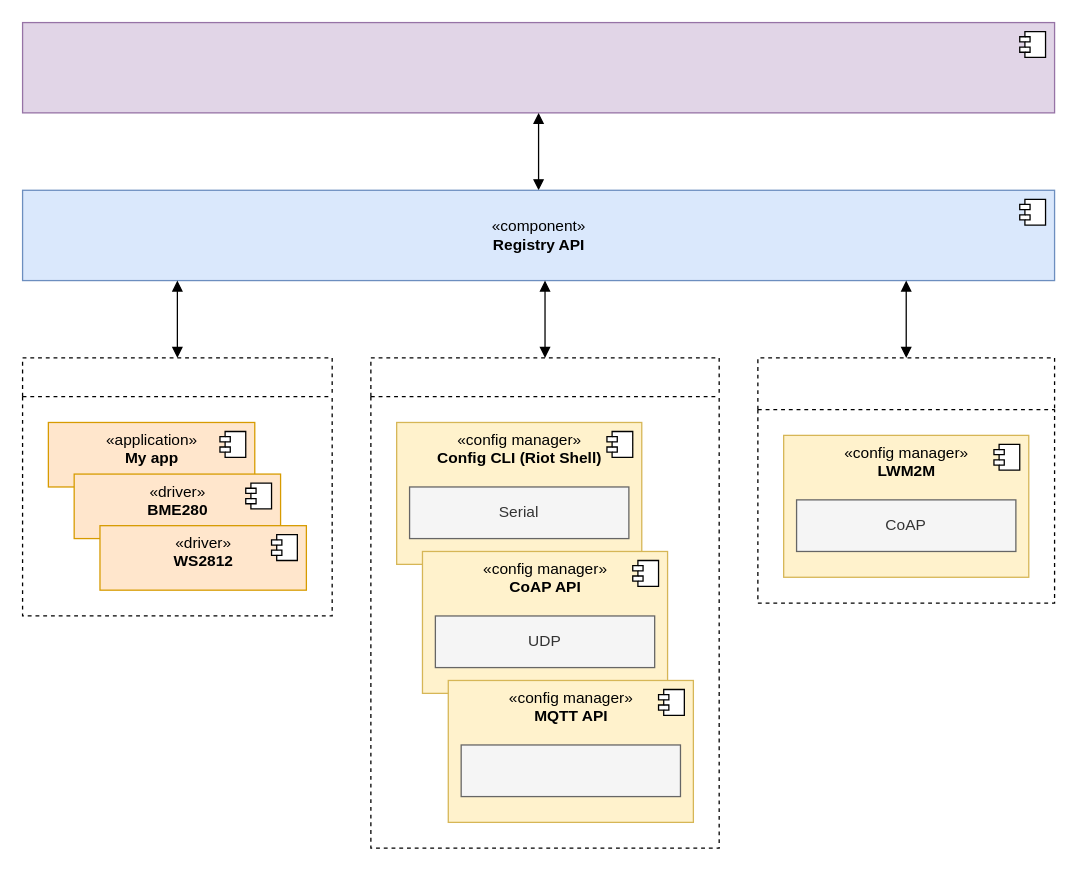
Some shapes in this 1077 by 871 pixel diagram are drawn without their labels. Here are the shapes that lost their labels. From the top down, the box of each, then its label:
(21, 21, 1055, 113): «component» Runtime Configurations
(21, 357, 332, 616): Applications / Drivers
(757, 357, 1055, 603): Advanced Configuration Managers with custom schemas
(370, 357, 719, 848): Basic Configuration Managers
(460, 744, 680, 797): TCP
